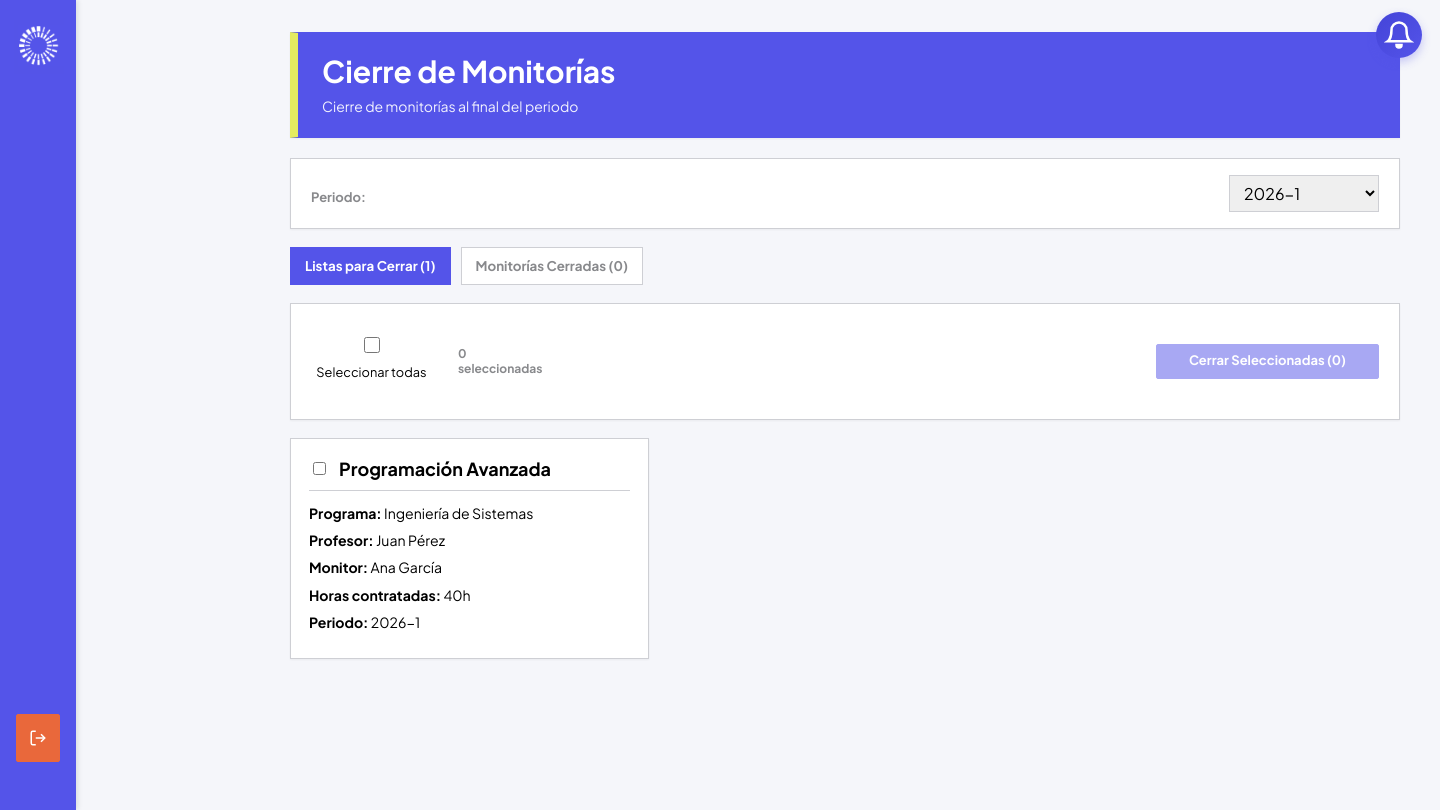
Test: CerrarMonitoriasHU007 › Debe permitir seleccionar monitorías
This screenshot has width=1440, height=810.
Expected: the heading "Programación Avanzada" is shown, 339,457 -> 551,480
What coordinates should you click on to do the following:
click the 2nd checkbox
I would click on:
 (320, 468)
Its box is 313,462 -> 326,475.
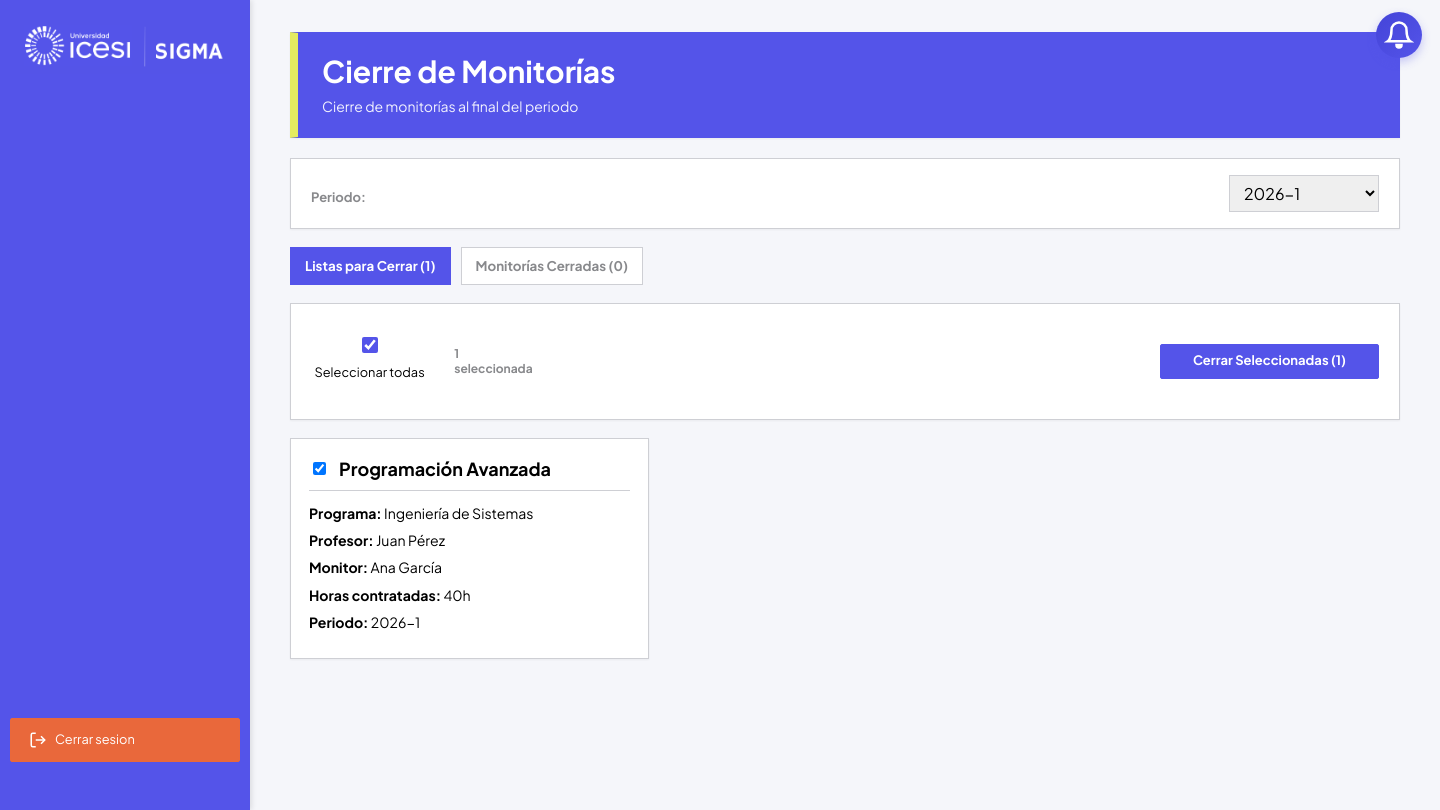
Now the button "Cerrar Seleccionadas (1)" is shown, box 1160,344 -> 1379,379
